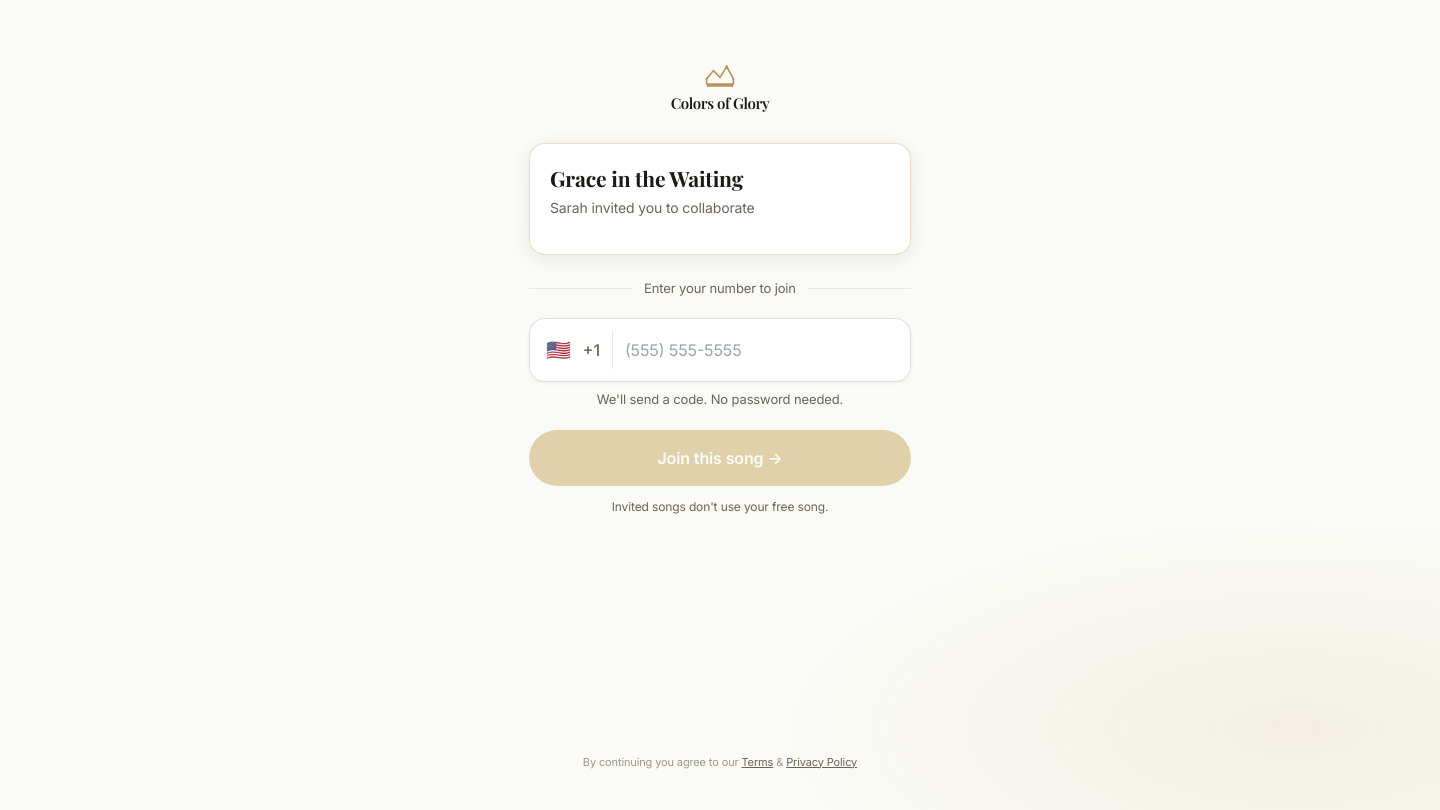
Scenario: InviteJoinPage — OTP toll-fraud guard › surfaces a kind error and stays on the join screen when the guard blocks the send
The width and height of the screenshot is (1440, 810).
In the field named "Phone number": (759, 350) x1=625 y1=338 x2=894 y2=362, type "5555550123"
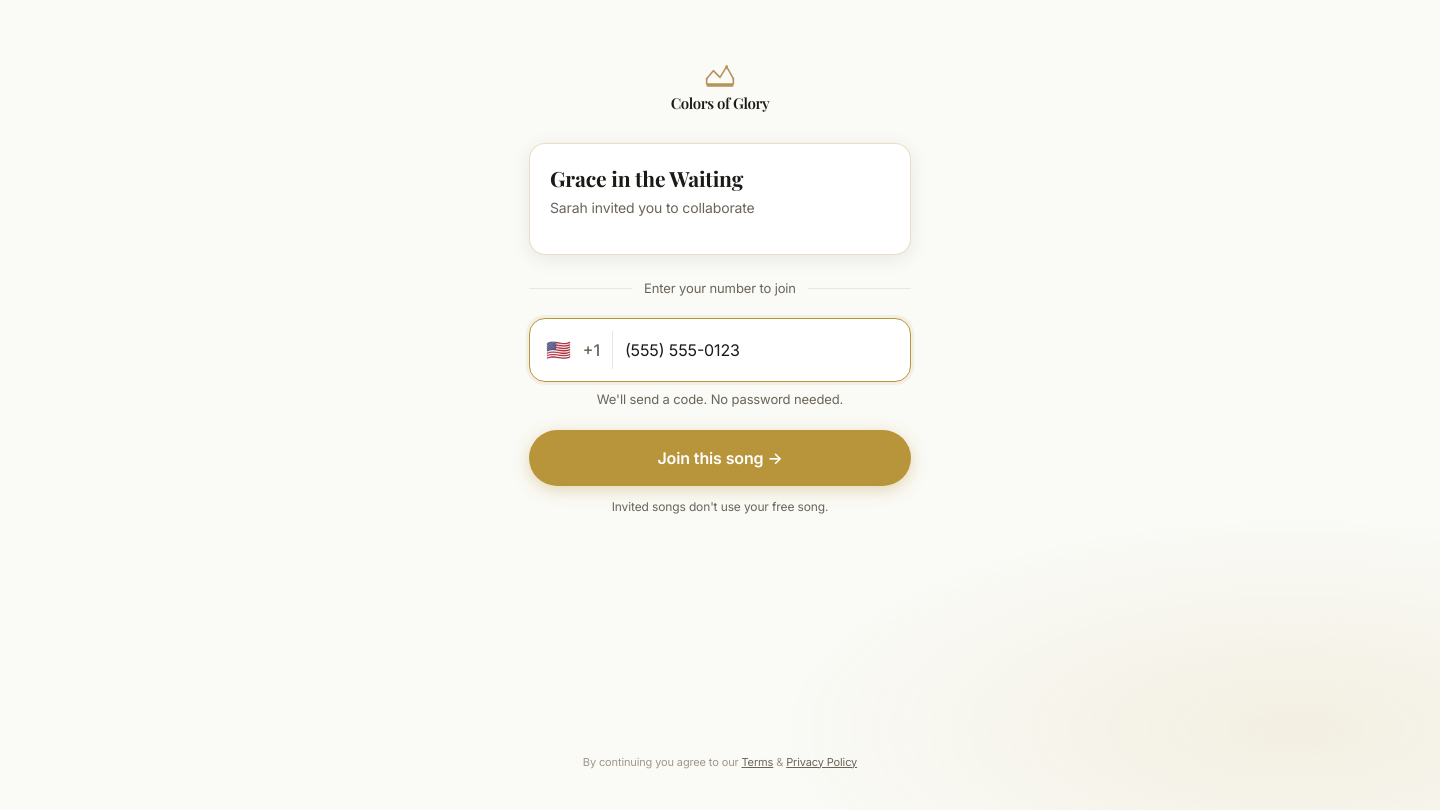
Click the button "Join this song →": (720, 458) x1=529 y1=430 x2=911 y2=486
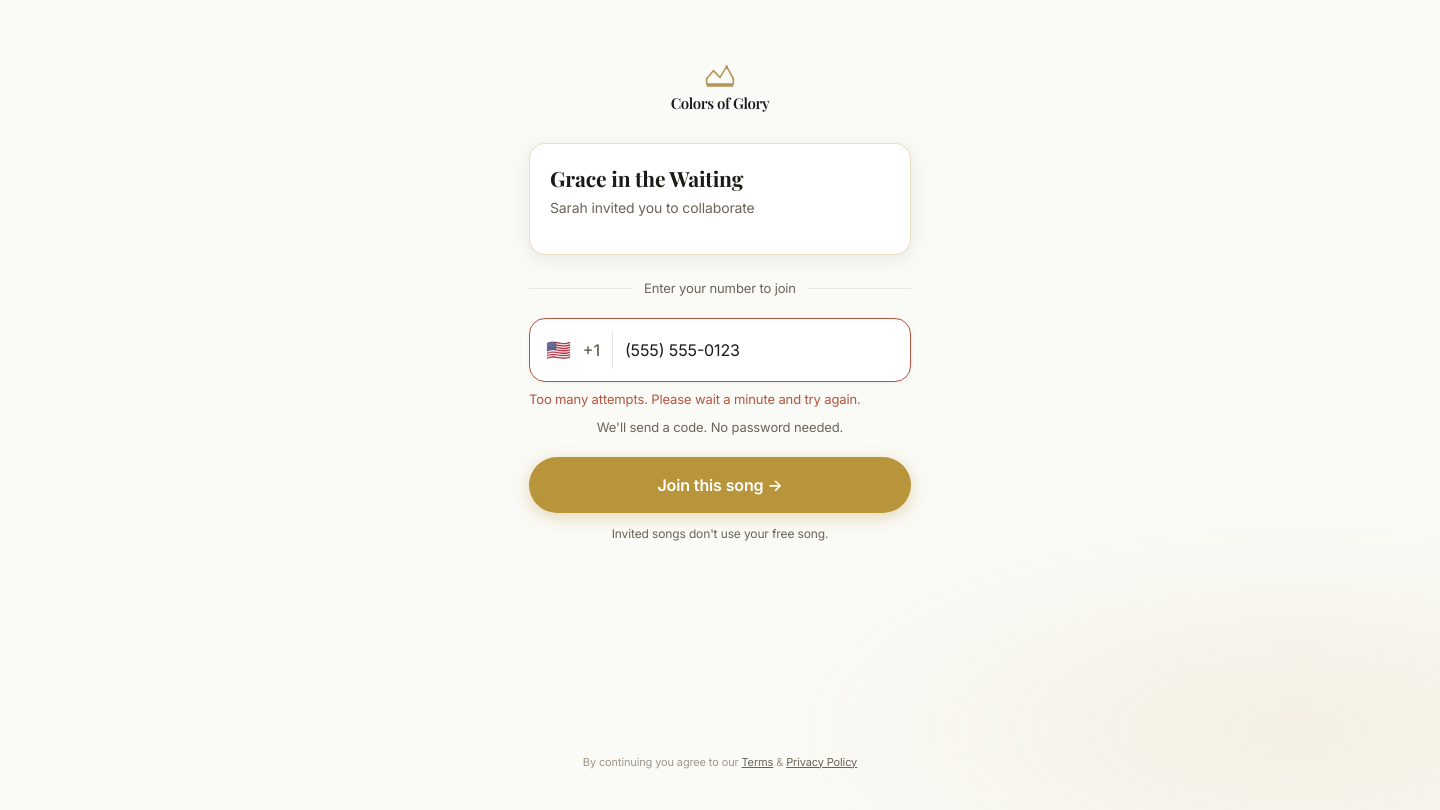
Now the message shows "Too many attempts", box x1=529 y1=391 x2=861 y2=407
